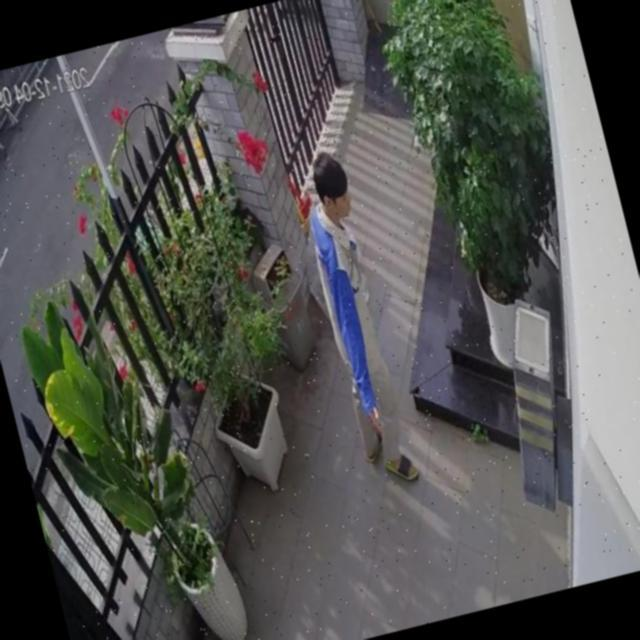person: (290, 148, 422, 492)
